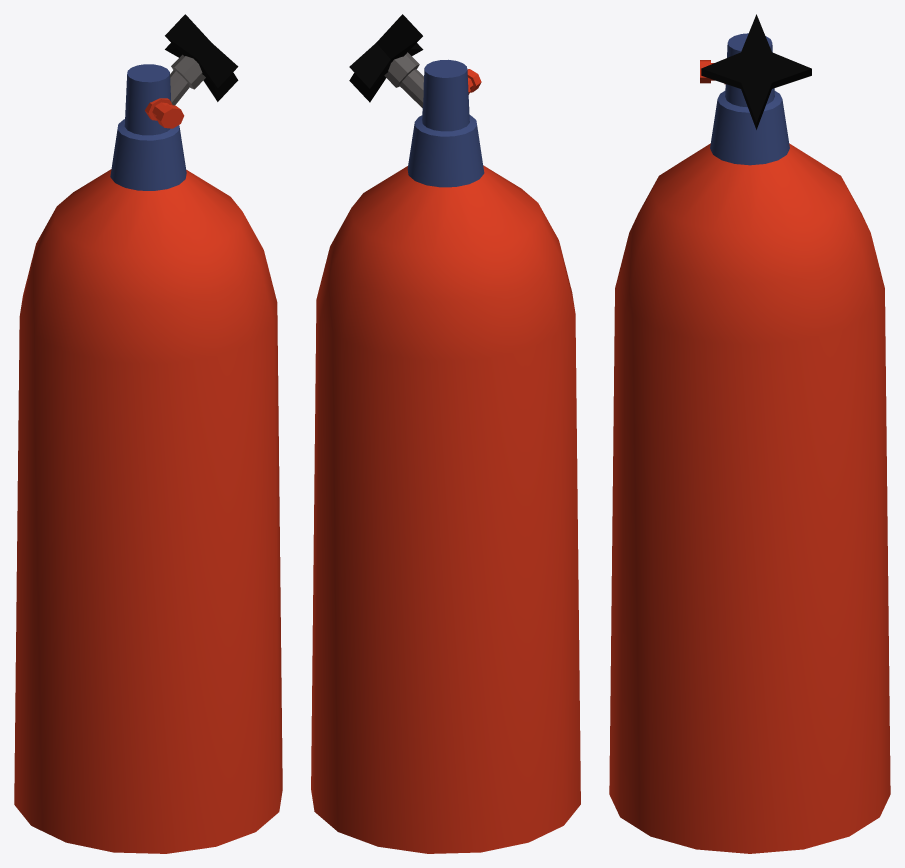
Rendered from nitro new .fbx.
3 renders of one model, left to right at view 1: azimuth 30°, elevation 25°; view 2: azimuth 150°, elevation 25°; view 3: azimuth 270°, elevation 25°, orthographic. The views are drawn at different scales.
Visible parts, largest first — view 1: Cylinder; view 2: Cylinder; view 3: Cylinder.
Part boxes in pixels (left/top/right/bottom): Cylinder: left=14, top=14, right=282, bottom=853; Cylinder: left=311, top=14, right=580, bottom=853; Cylinder: left=609, top=14, right=890, bottom=853.
Size of the model in its own units: 28.1 by 88.29 by 28.1.
